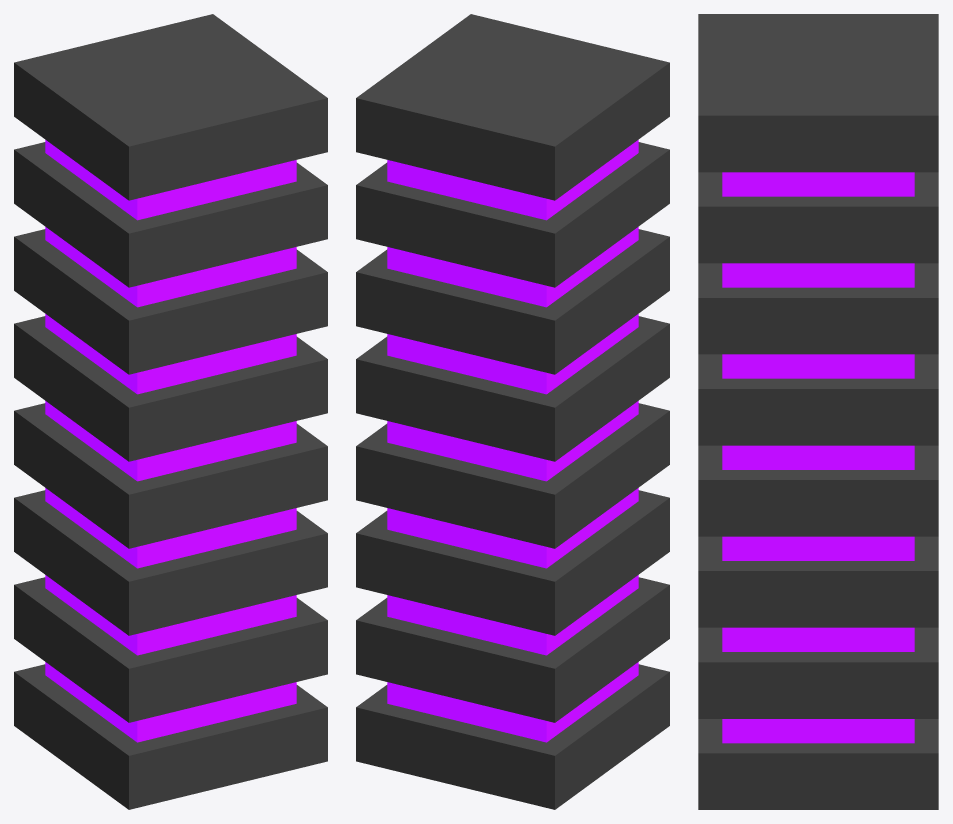
Rendered from tower2.fbx.
The picture shows the model from 3 angles, left to right: view 1: azimuth 30°, elevation 25°; view 2: azimuth 150°, elevation 25°; view 3: azimuth 270°, elevation 25°; orthographic projection. The views are drawn at different scales.
Parts seen in each view (by area): view 1: Tower2; view 2: Tower2; view 3: Tower2.
Boxes of the visible parts, x1=… form: Tower2: x1=14, y1=14, x2=327, y2=809; Tower2: x1=356, y1=14, x2=669, y2=809; Tower2: x1=698, y1=14, x2=938, y2=809.
Size of the model in its own units: 478 by 1524 by 478.
